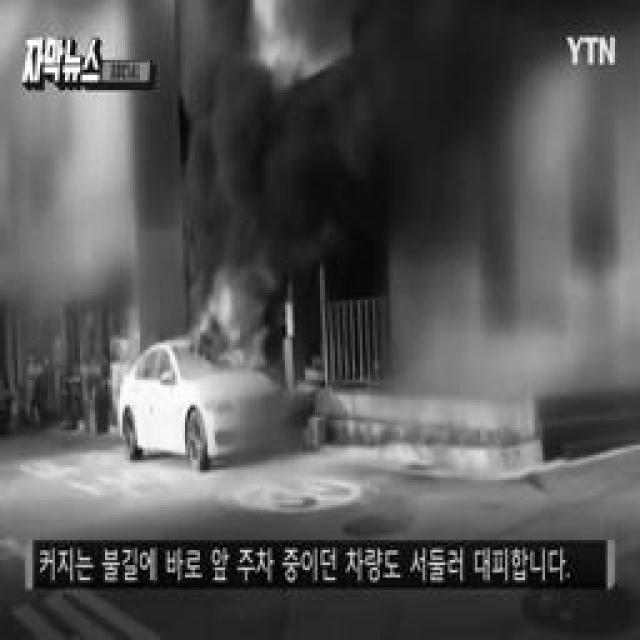Fire: (200, 275, 270, 361)
